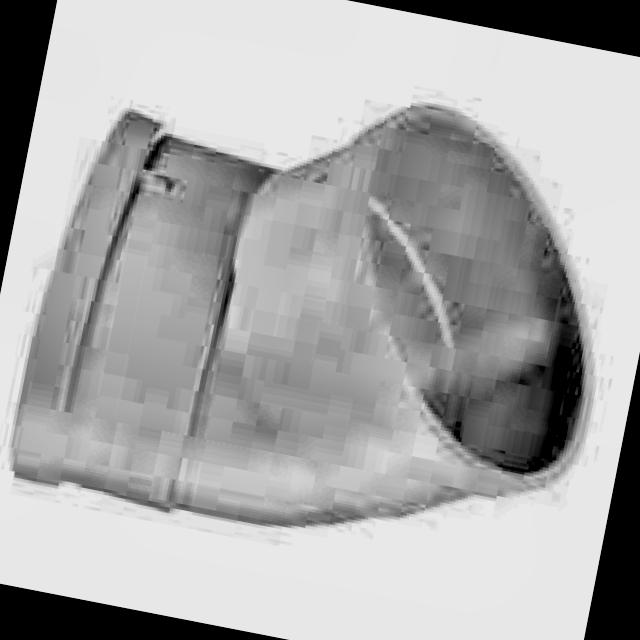ELBOW45: (8, 99, 597, 533)
